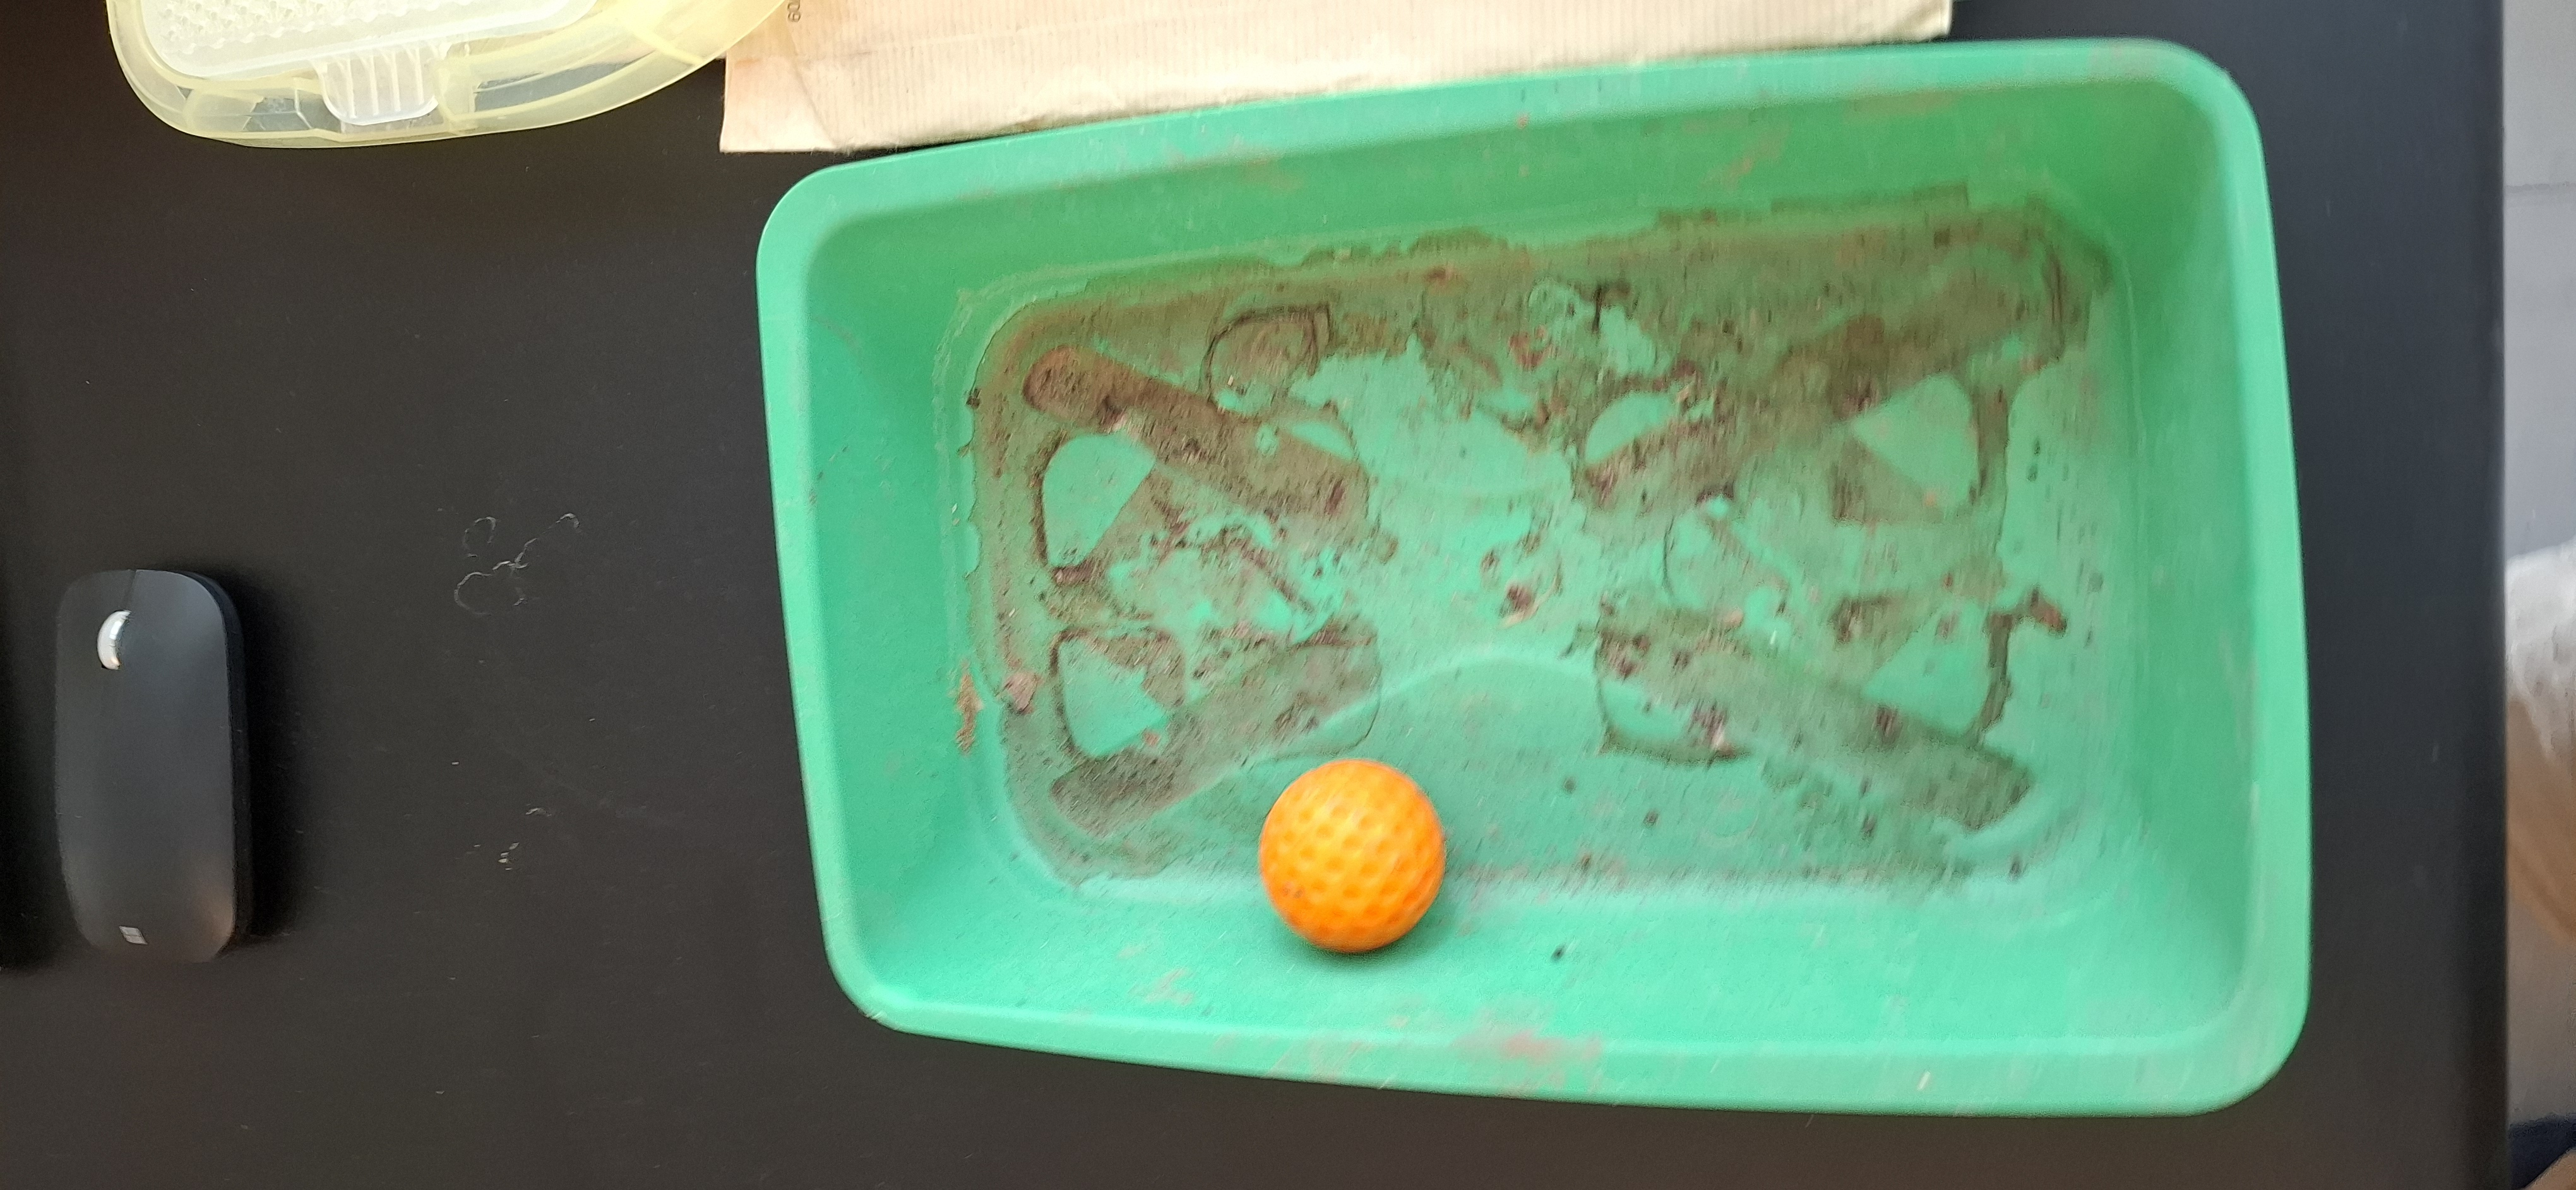ball: (1262, 763, 1444, 952)
